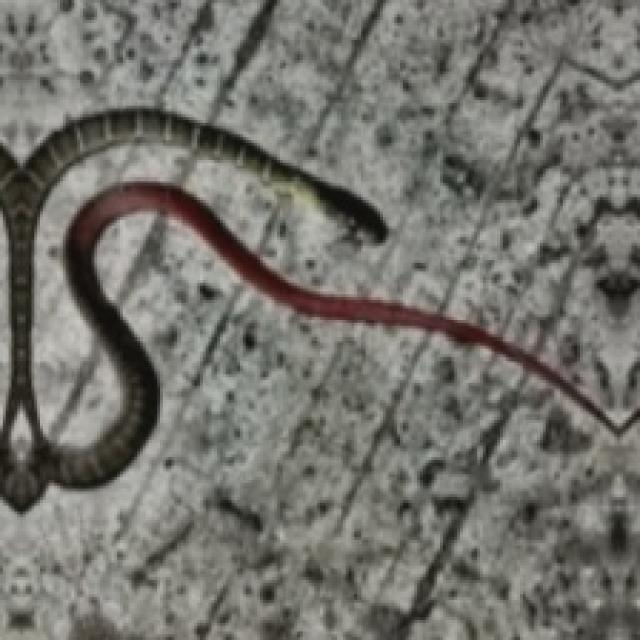reddish rat snake: (0, 109, 637, 509)
